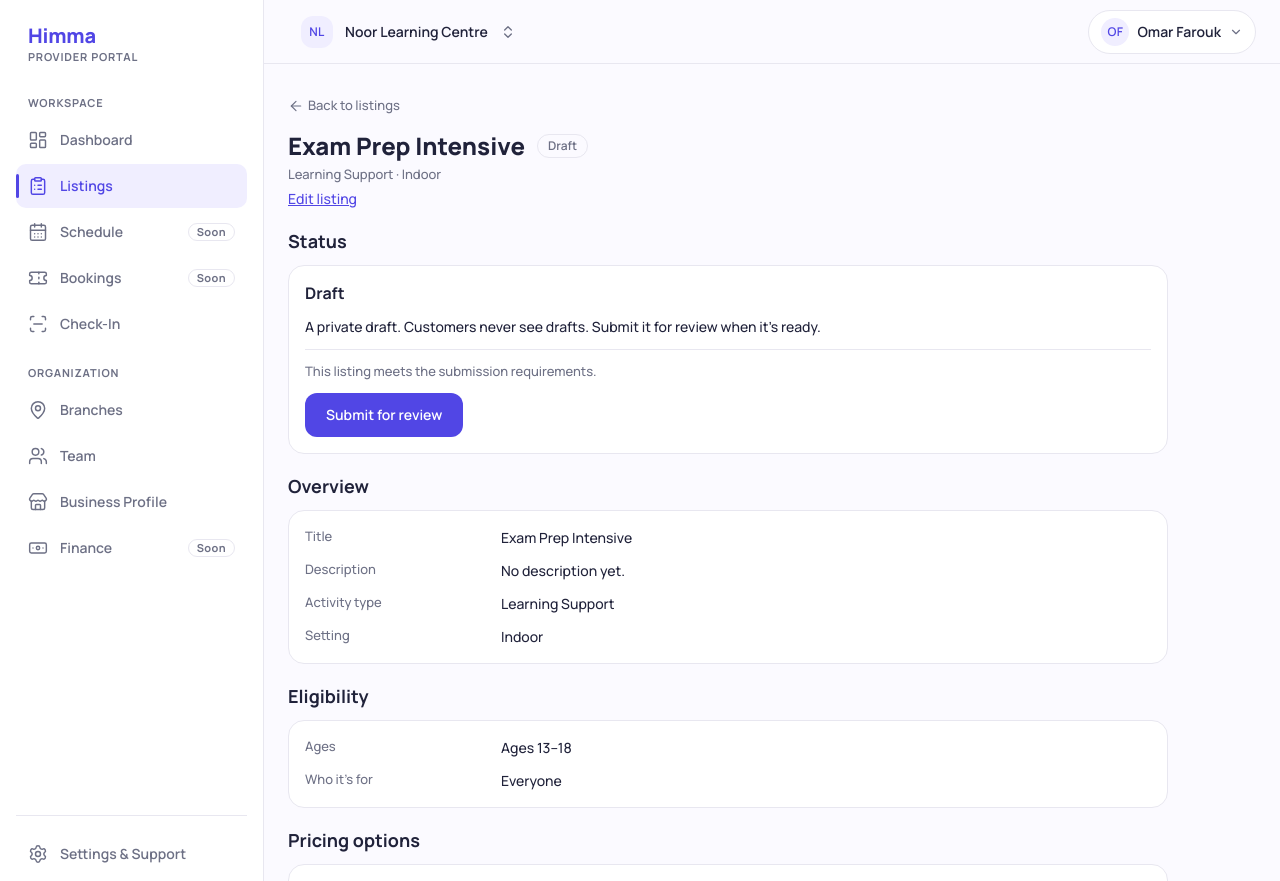
it: listing lifecycle UX — submit path (W2-9) › duplicate lifecycle submission executes exactly once (busy guard)
Expected: the heading "Exam Prep Intensive" is shown, [288, 130, 525, 160]
// Two rapid activations — the second lands while the first is in flight.
Click the button "Submit for review" at (384, 414), box [305, 392, 463, 436]
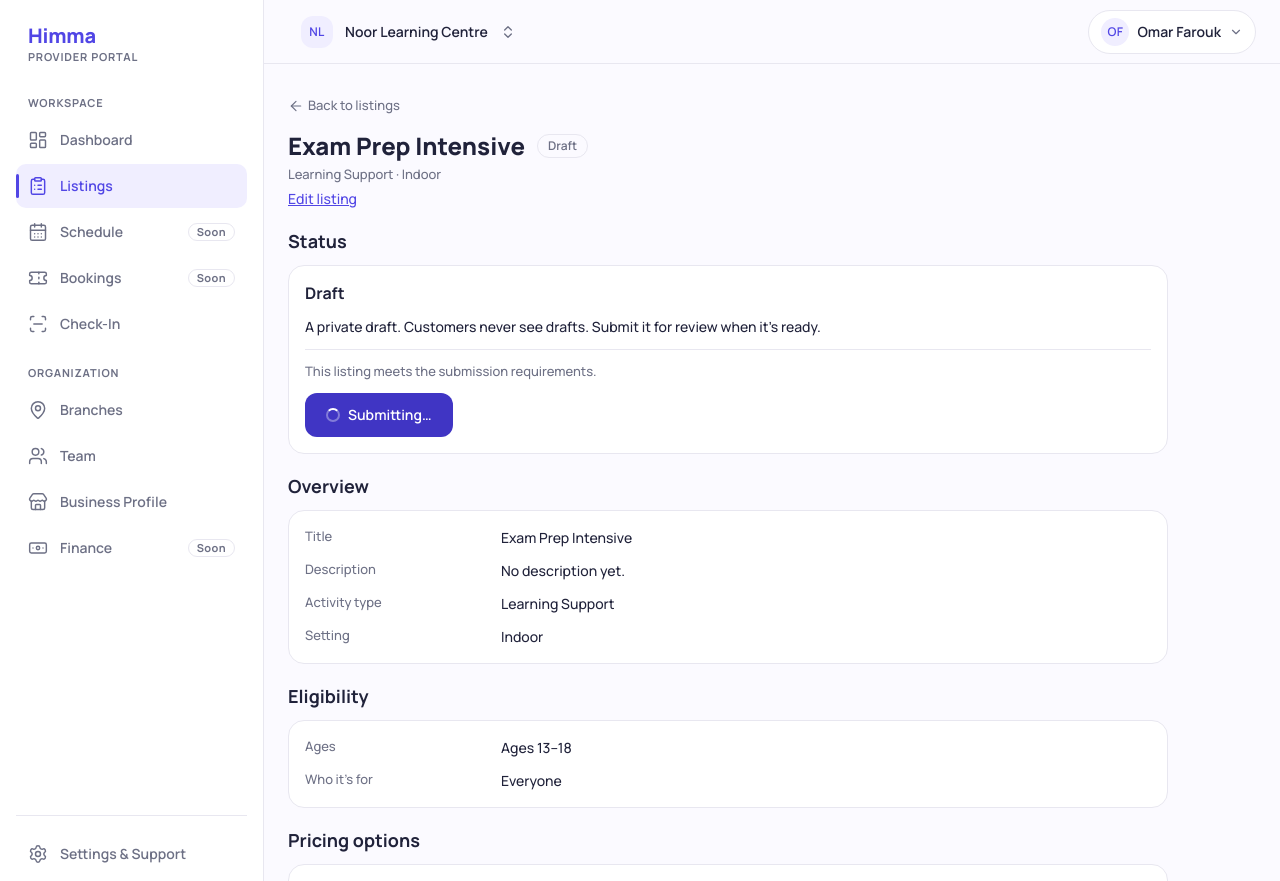
Click the button named "Submit for review" at (379, 414), box [305, 392, 453, 436]
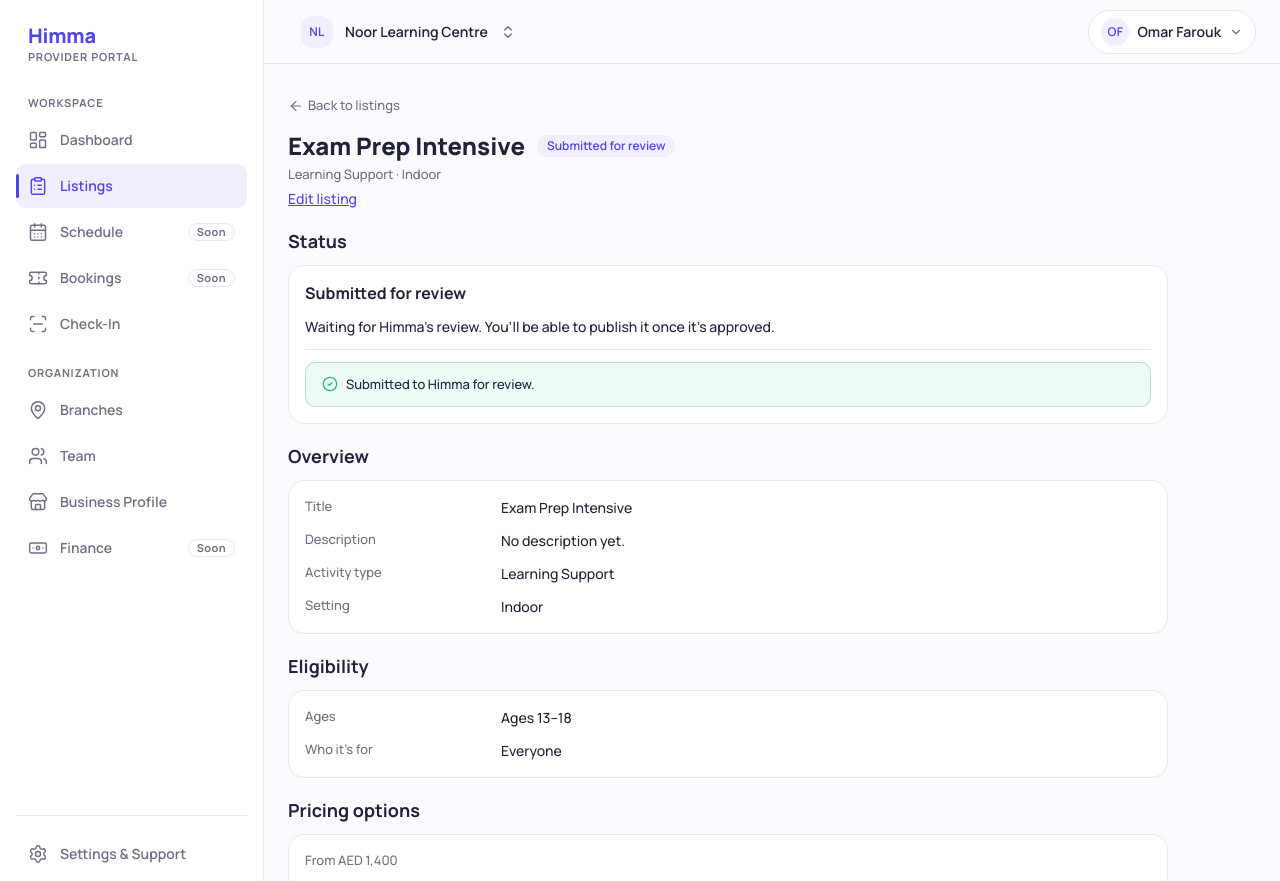
Result: the text "Submitted to Himma for review." is shown at [346, 374, 534, 394]
